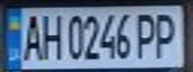0: (63, 11, 84, 61)
2: (81, 11, 100, 61)
4: (100, 10, 121, 61)
6: (115, 10, 136, 61)
A: (18, 10, 45, 62)
H: (39, 10, 63, 61)
P: (151, 9, 184, 60), (133, 10, 160, 60)
